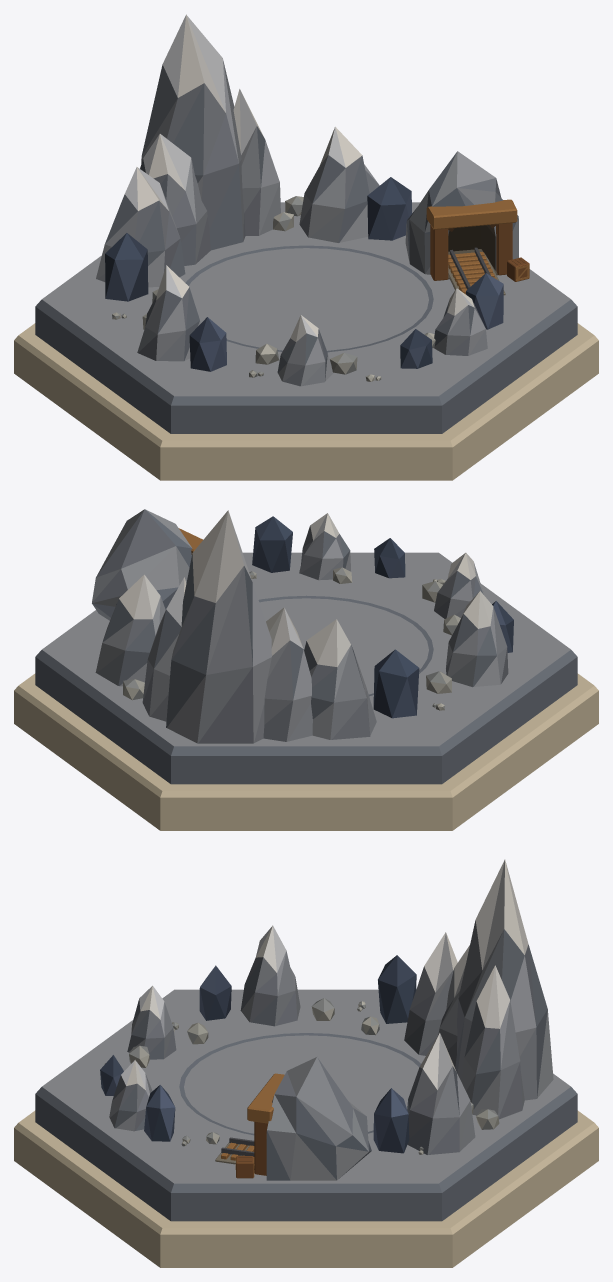
The model's file is hex_mountains.glb.
The picture shows the model from 3 angles, top to bottom: view 1: azimuth 30°, elevation 25°; view 2: azimuth 150°, elevation 25°; view 3: azimuth 270°, elevation 25°; orthographic projection.
Visible parts, largest first — view 1: hex_mountains; view 2: hex_mountains; view 3: hex_mountains.
Part boxes in pixels (<box>): hex_mountains: <box>14,14,598,480</box>; hex_mountains: <box>14,509,598,830</box>; hex_mountains: <box>14,859,598,1267</box>.
Size of the model in its own units: 1.73 by 1.1 by 2.
